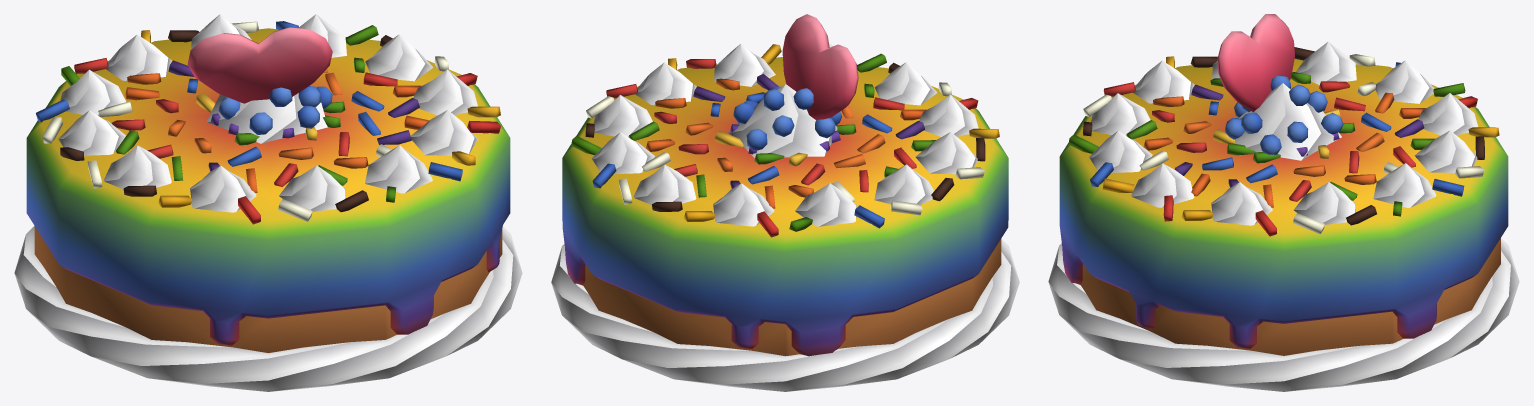
Rendered from m_RainbowCake01.fbx.
3 views of the same model, side by side, from view 1: azimuth 30°, elevation 25°; view 2: azimuth 150°, elevation 25°; view 3: azimuth 270°, elevation 25° (orthographic). The views are drawn at different scales.
Parts seen in each view (by area): view 1: m_RainbowCake01; view 2: m_RainbowCake01; view 3: m_RainbowCake01.
Part boxes in pixels (left/top/right/bottom): m_RainbowCake01: left=14, top=14, right=522, bottom=391; m_RainbowCake01: left=551, top=14, right=1019, bottom=391; m_RainbowCake01: left=1048, top=14, right=1519, bottom=391.
Size of the model in its own units: 30.41 by 18.85 by 30.41.
